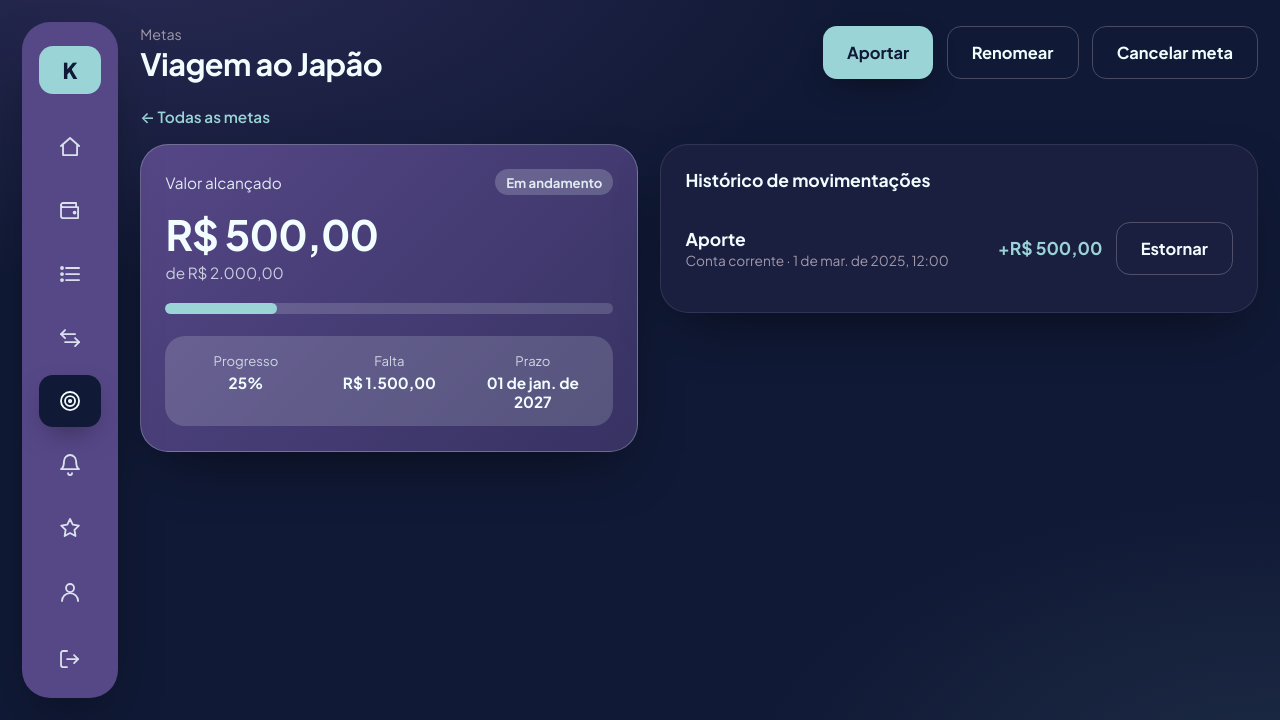
Test: metas: detalhe e aporte › faz o aporte, avisa e recarrega a meta e os saldos
Click the button "Aportar" at (878, 52), box [823,26,933,79]
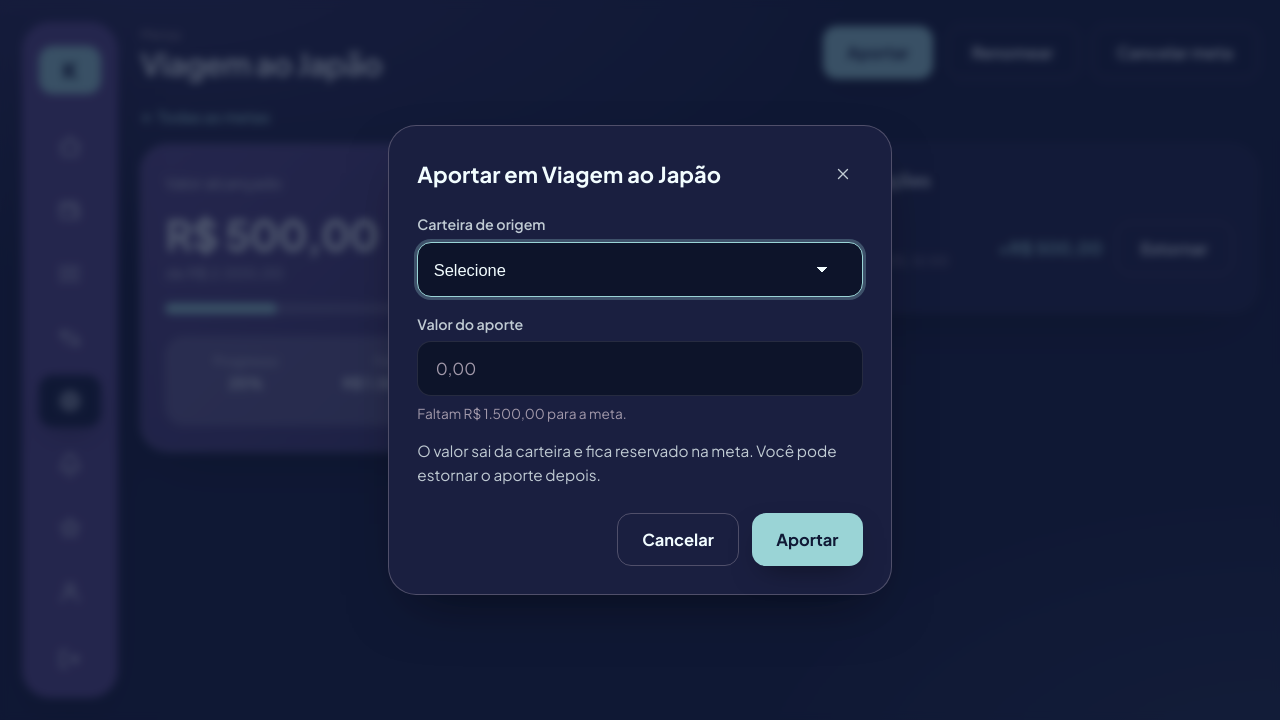
Select "Conta corrente · R$ 1.500,00" in the dropdown labelled "Carteira de origem" at (640, 270), box [434,243,846,296]
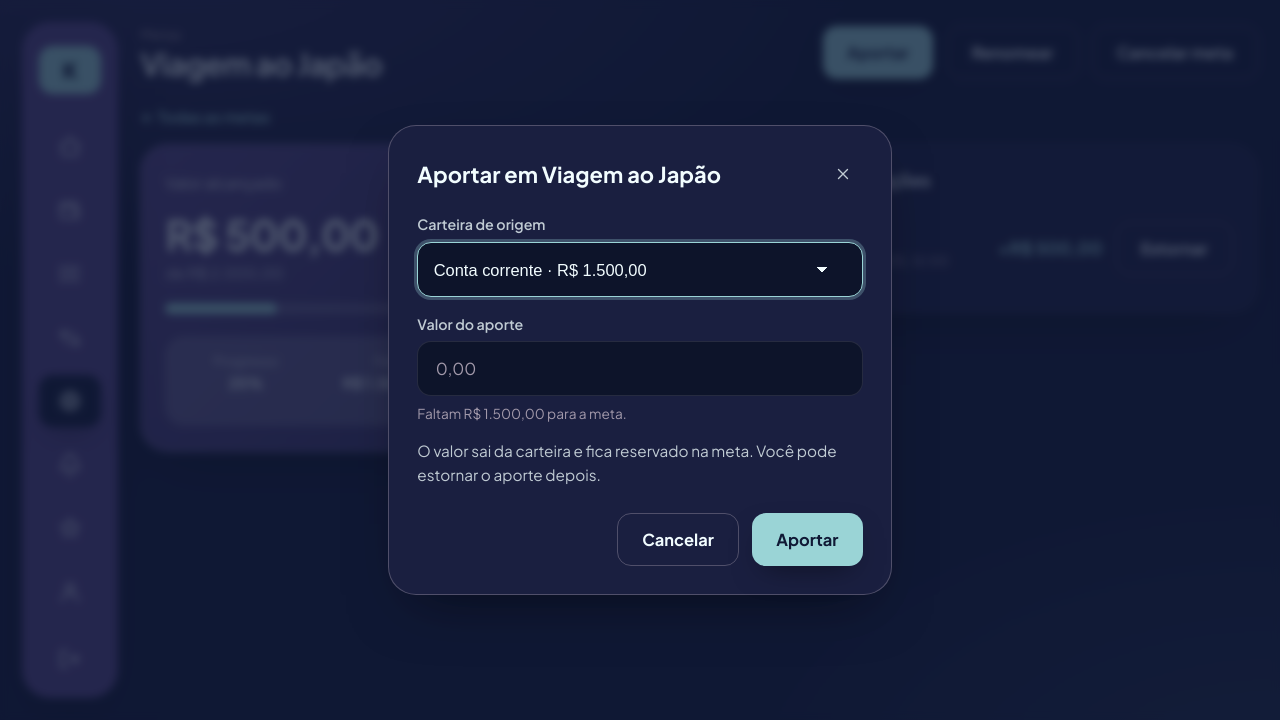
Type "100,00" into the field labelled "Valor do aporte" at (640, 369), box [434,342,846,395]
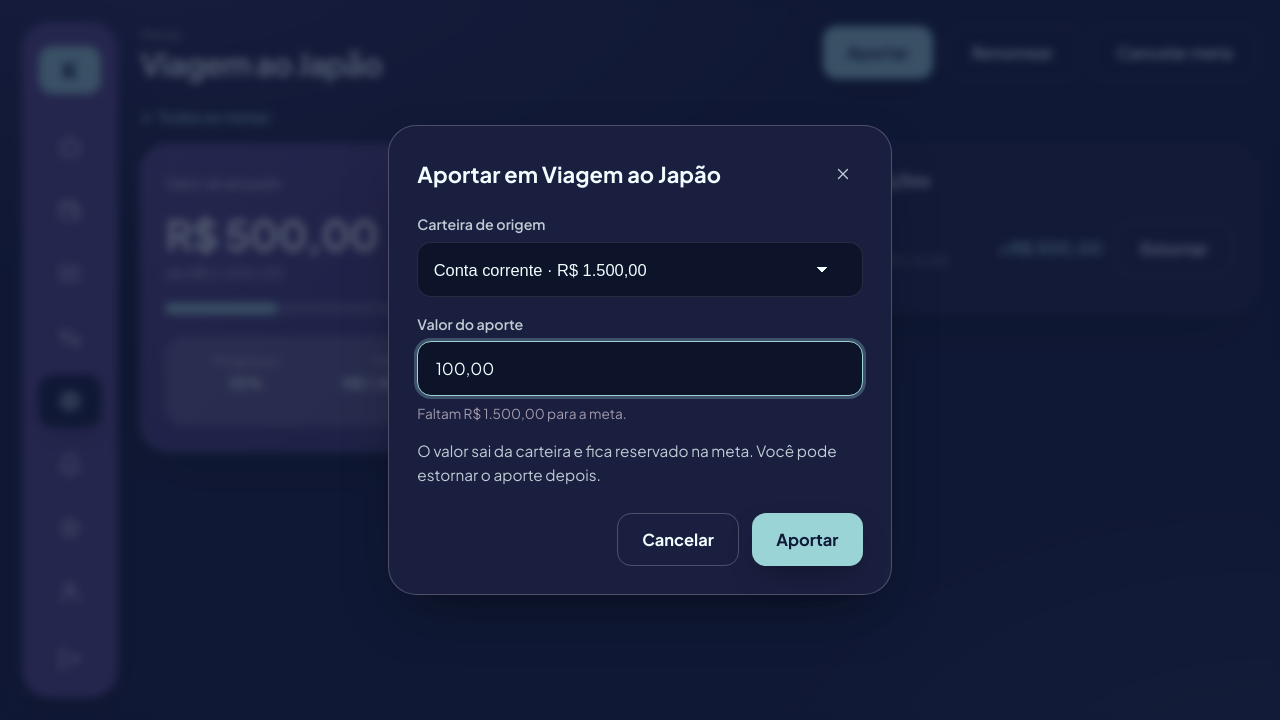
Click the button "Aportar" at (807, 540), box [752,513,863,566]
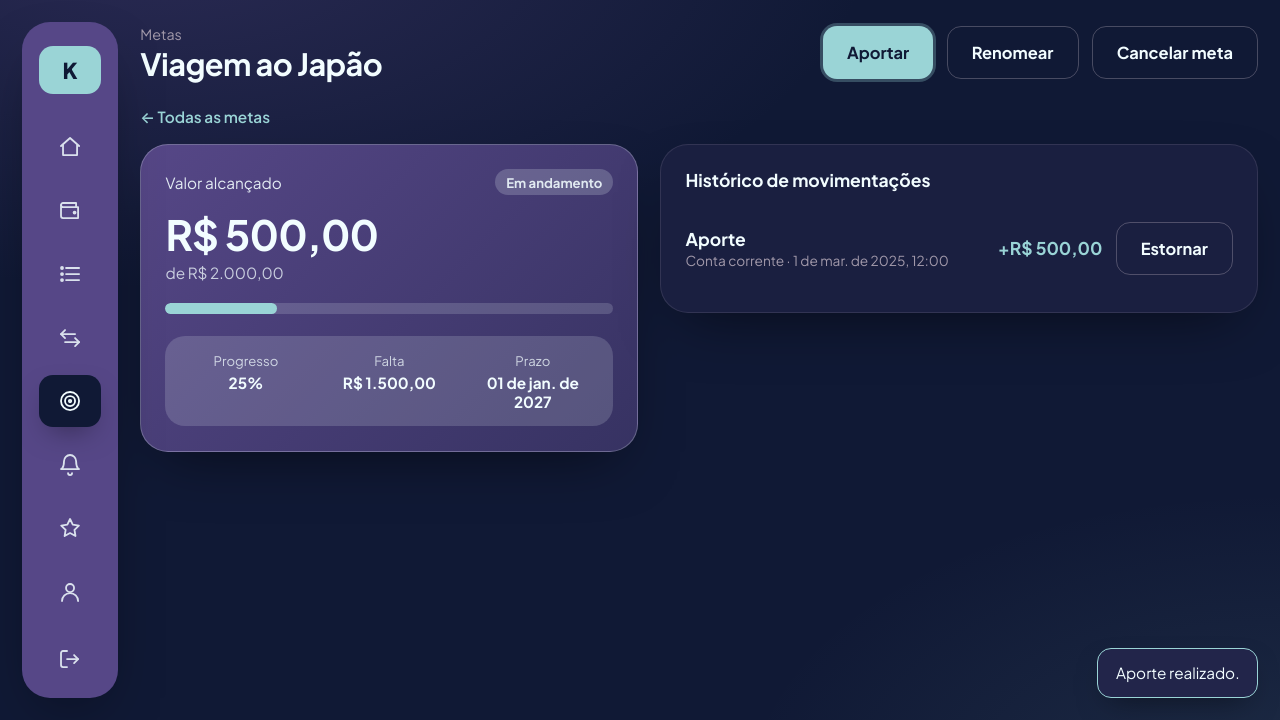
Check: the text "Aporte realizado." is shown, box [1097,648,1258,698]
